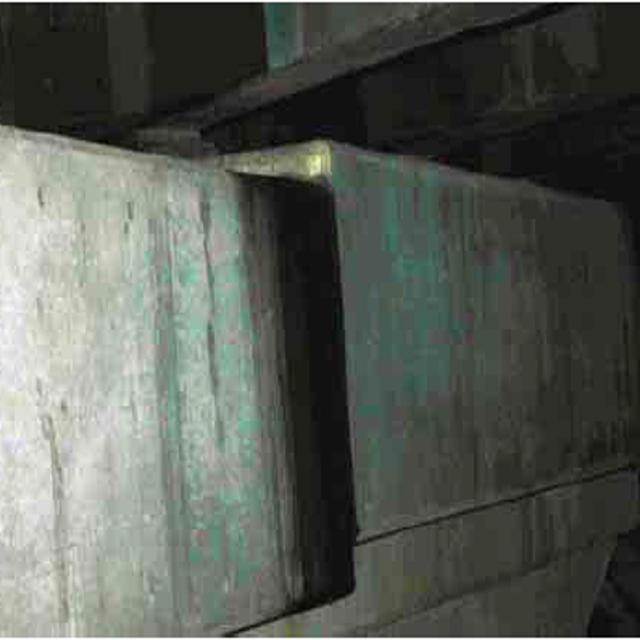leakage: (248, 138, 368, 633)
